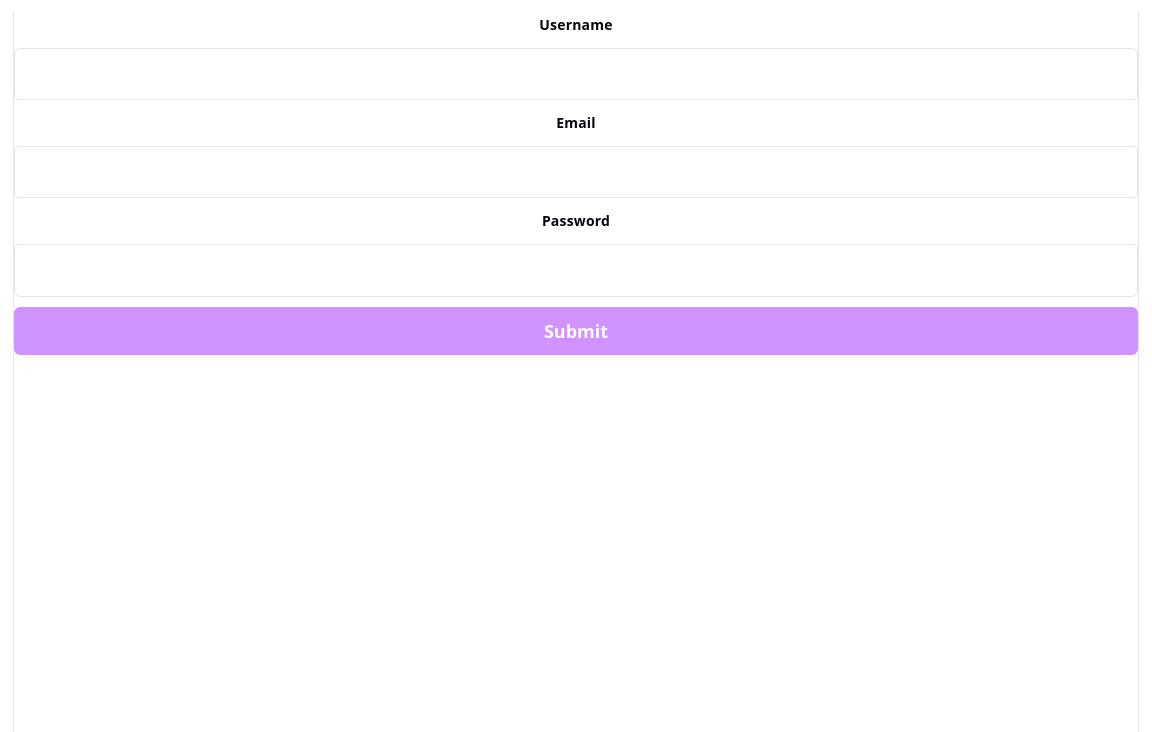
Test: RegistrationForm Component › shows error when password is too short
Type "123" into the password field labelled "Password" at (576, 271), box [14,244,1138,297]
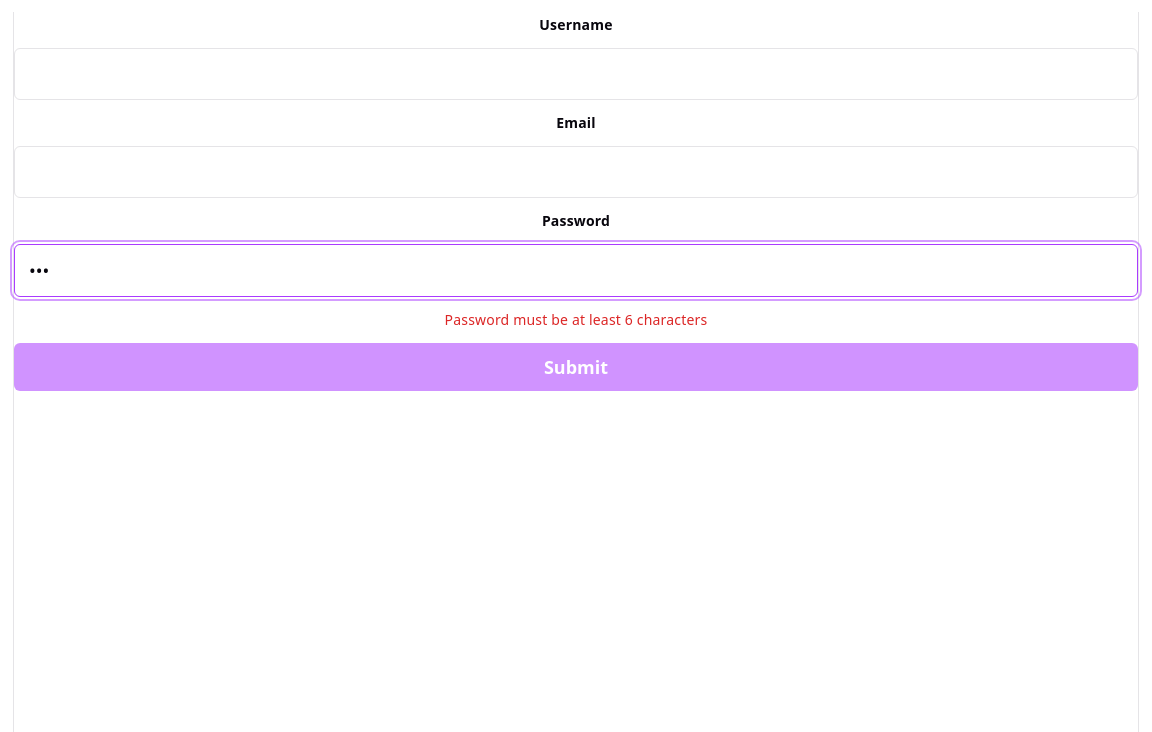
Expected: the text "Password must be at least 6 characters" is shown, [445,310,707,329]
